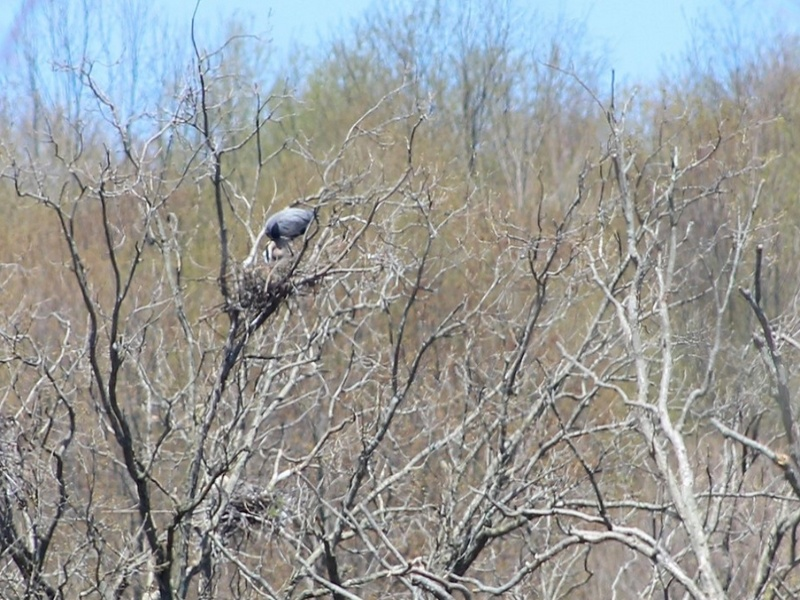heron: (239, 195, 331, 280)
